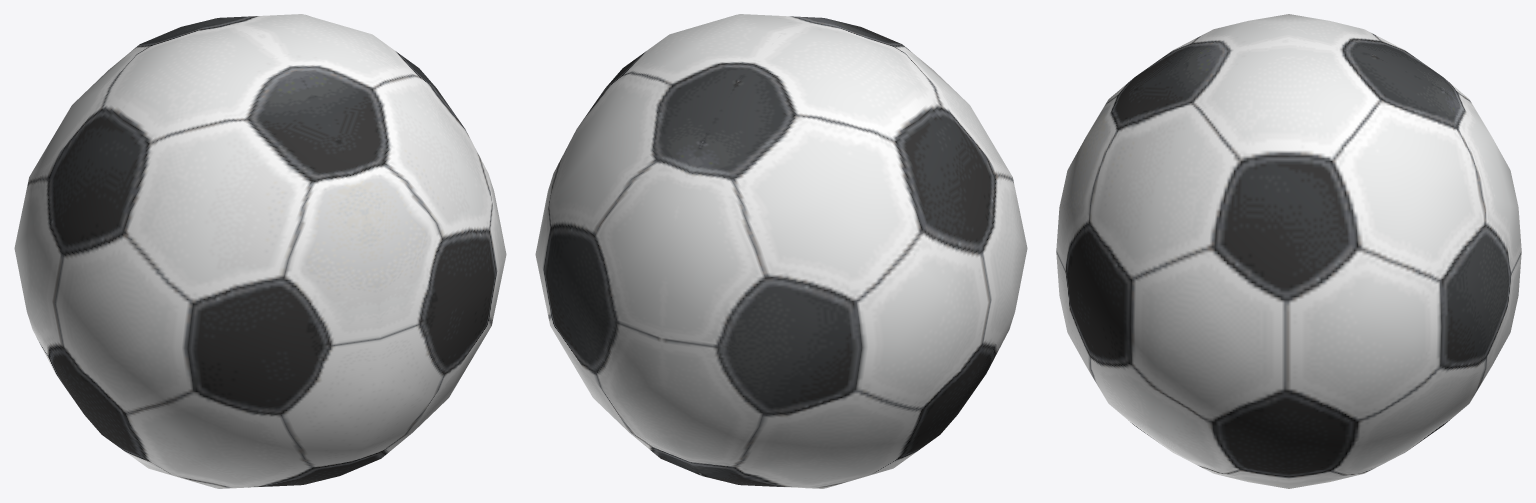
Rendered from ball.gltf.
3 views of the same model, side by side, from view 1: azimuth 30°, elevation 25°; view 2: azimuth 150°, elevation 25°; view 3: azimuth 270°, elevation 25° (orthographic). The views are drawn at different scales.
Parts seen in each view (by area): view 1: Football; view 2: Football; view 3: Football.
Boxes of the visible parts, bbox=[...] form: Football: bbox=[14, 14, 506, 488]; Football: bbox=[535, 14, 1027, 488]; Football: bbox=[1056, 14, 1521, 488].
Bounding box in the file's own units: 0.9307 × 0.9307 × 0.9307.
1 material, 1 textured.
